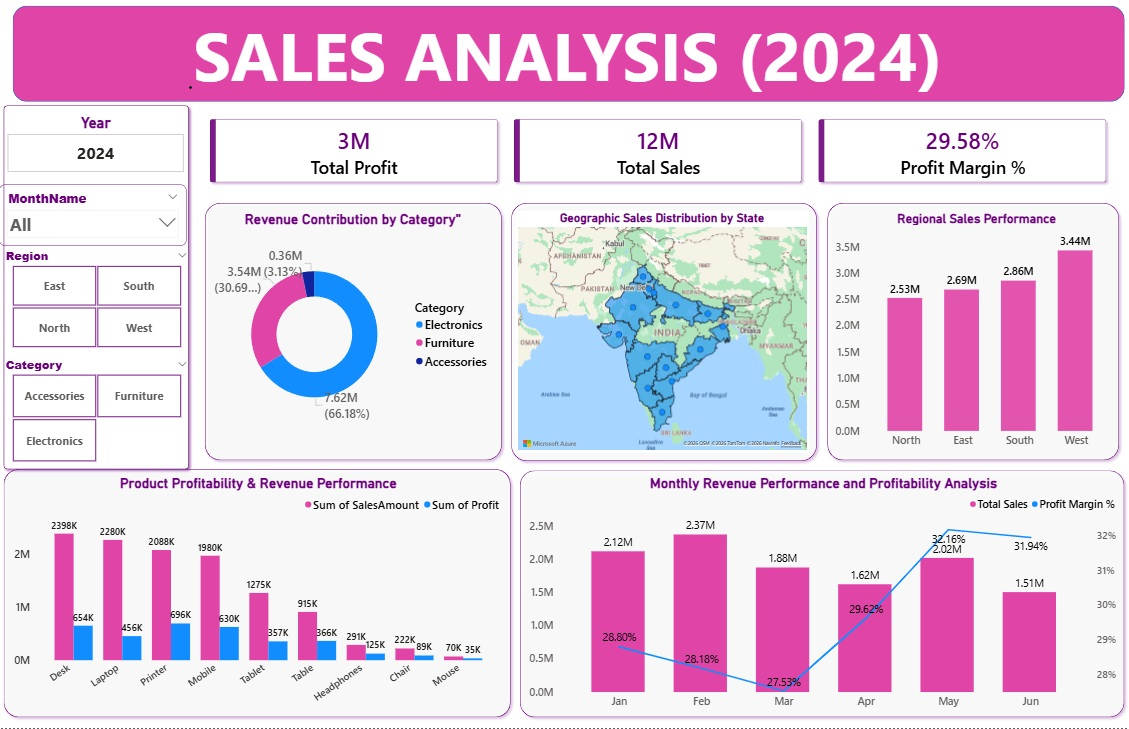

The dashboard page shown, as its layout file describes it:
{"tool":"powerbi","page":{"name":"Page 1","canvas":[2150,1400],"ordinal":0},"visuals":[{"type":"shape","box":[26.2,26.2,2087.6,180.7],"z":0},{"type":"textbox","box":[156.9,26.2,1849.9,180.7],"z":1000},{"type":"cardVisual","fields":{"Data":["sales_db sales.Total Profit","sales_db sales.Total Sales","sales_db sales.Profit Margin %"]},"box":[370.9,211.6,1766.7,180.7],"z":2000},{"type":"shape","box":[0,898.8,982,489.8],"z":3000},{"type":"shape","box":[382.5,392.5,582.5,507.5],"z":4000},{"type":"donutChart","title":"Revenue Contribution by Category\"","fields":{"Category":["sales_db sales.Category"],"Y":["sales_db sales.Total Sales"]},"box":[405,415,537.5,437.5],"z":5000},{"type":"lineClusteredColumnComboChart","title":"Product Profitability & Revenue Performance","fields":{"Category":["sales_db sales.Product"],"Y":["Sum(sales_db sales.SalesAmount)","Sum(sales_db sales.Profit)"]},"box":[23.8,917.8,939.2,454.1],"z":6000},{"type":"shape","box":[982.5,900,1167.5,487.5],"z":7000},{"type":"lineClusteredColumnComboChart","title":"Monthly Revenue Performance and Profitability Analysis","fields":{"Category":["sales_db sales.MonthName"],"Y":["sales_db sales.Total Sales"],"Y2":["sales_db sales.Profit Margin %"]},"box":[1002.5,917.5,1130,455],"z":8000},{"type":"shape","box":[1567.5,392.5,572.5,507.5],"z":9000},{"type":"lineClusteredColumnComboChart","title":"Regional Sales Performance","fields":{"Category":["sales_db sales.Region"],"Y":["Sum(sales_db sales.SalesAmount)"]},"box":[1585,415,547.5,460],"z":10000},{"type":"shape","box":[0,207.5,370,710],"z":11000},{"type":"slicer","fields":{"Values":["sales_db sales.Region"]},"box":[0,482.5,370,200],"z":12000},{"type":"slicer","fields":{"Values":["sales_db sales.Category"]},"box":[0,690,370,210],"z":13000},{"type":"advancedSlicerVisual","fields":{"Values":["sales_db sales.Year"]},"box":[11.9,230.6,344.8,116.5],"z":14000},{"type":"shape","box":[965.4,392.3,599.2,508.8],"z":15000},{"type":"azureMap","title":"Geographic Sales Distribution by State","fields":{"Category":["sales_db sales.State"]},"box":[982,416.1,558.8,458.9],"z":16000},{"type":"slicer","fields":{"Values":["sales_db sales.MonthName"]},"box":[0,366.2,356.7,116.5],"z":17000}]}

Visuals, with their boxes in screenshot pixels (x1, y1, x2, y2), scaled from the page's 2150x1400 canvas onto the 1129x729 screenshot:
shape: box(14, 14, 1110, 108)
textbox: box(82, 14, 1054, 108)
cardVisual - sales_db sales.Total Profit x sales_db sales.Total Sales: box(195, 110, 1122, 204)
shape: box(0, 468, 516, 723)
shape: box(201, 204, 507, 469)
"Revenue Contribution by Category"" donutChart: box(213, 216, 495, 444)
"Product Profitability & Revenue Performance" lineClusteredColumnComboChart: box(12, 478, 506, 714)
shape: box(516, 469, 1128, 722)
"Monthly Revenue Performance and Profitability Analysis" lineClusteredColumnComboChart: box(526, 478, 1120, 715)
shape: box(823, 204, 1124, 469)
"Regional Sales Performance" lineClusteredColumnComboChart: box(832, 216, 1120, 456)
shape: box(0, 108, 194, 478)
slicer - sales_db sales.Region: box(0, 251, 194, 355)
slicer - sales_db sales.Category: box(0, 359, 194, 469)
advancedSlicerVisual - sales_db sales.Year: box(6, 120, 187, 181)
shape: box(507, 204, 822, 469)
"Geographic Sales Distribution by State" azureMap: box(516, 217, 809, 456)
slicer - sales_db sales.MonthName: box(0, 191, 187, 251)
